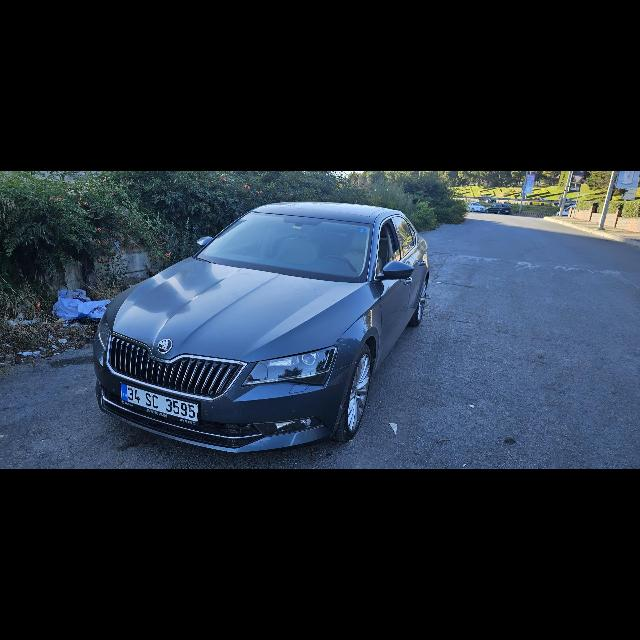Plaka: (121, 384, 197, 422)
